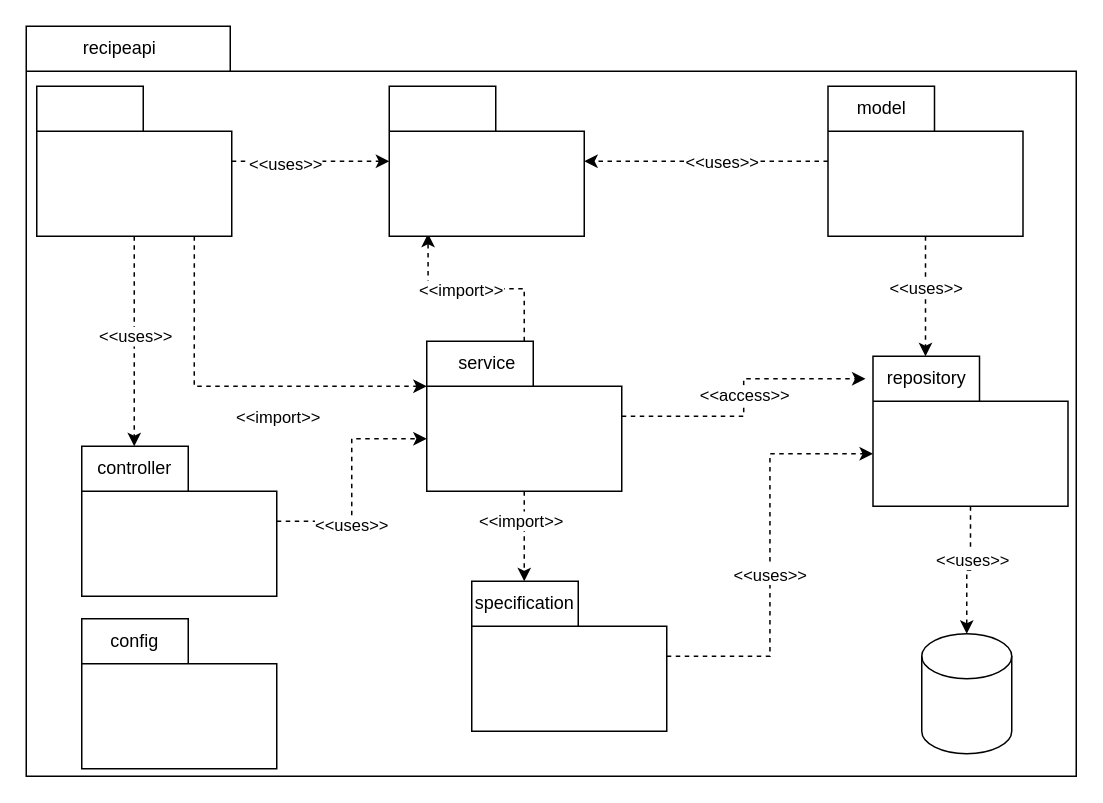
Some shapes in this 1103 by 803 pixel diagram are drawn without their labels. Here are the shapes that lost their labels. From the top down, the box of each, then its label:
(35, 85, 232, 236): dto
(388, 85, 584, 236): mapper
(920, 632, 1012, 754): DB
